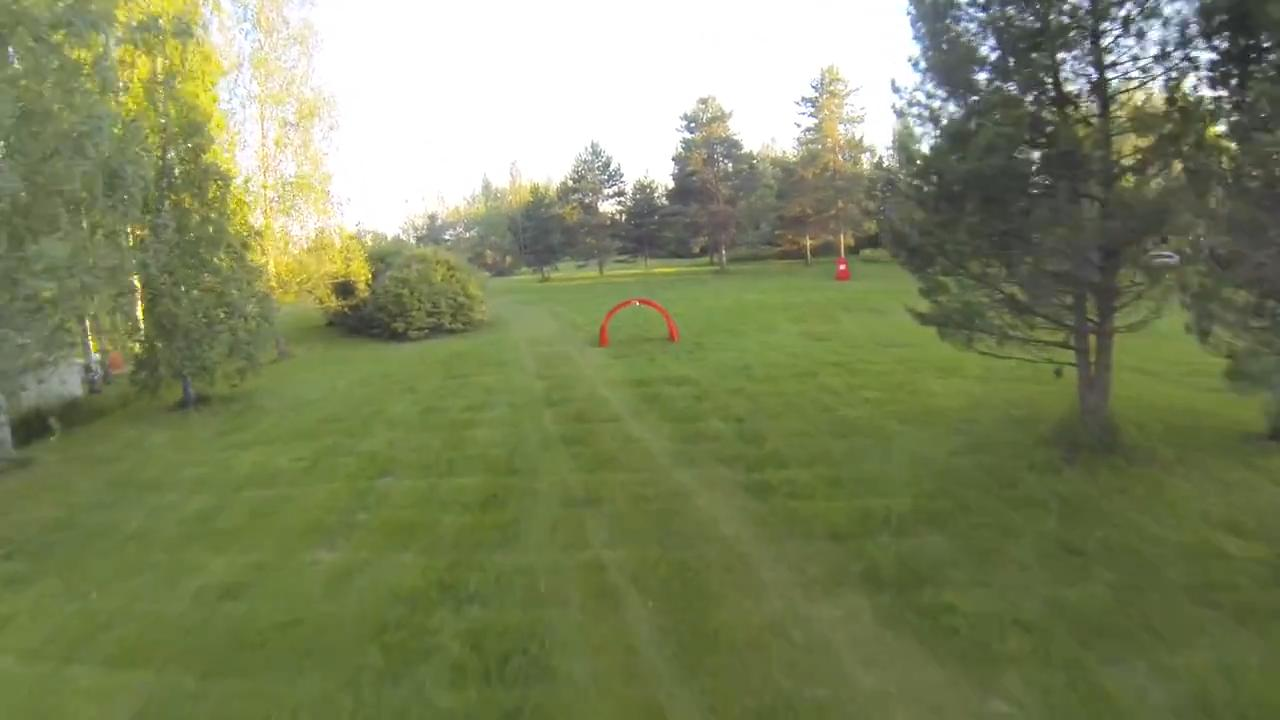gate: (596, 298, 680, 351)
